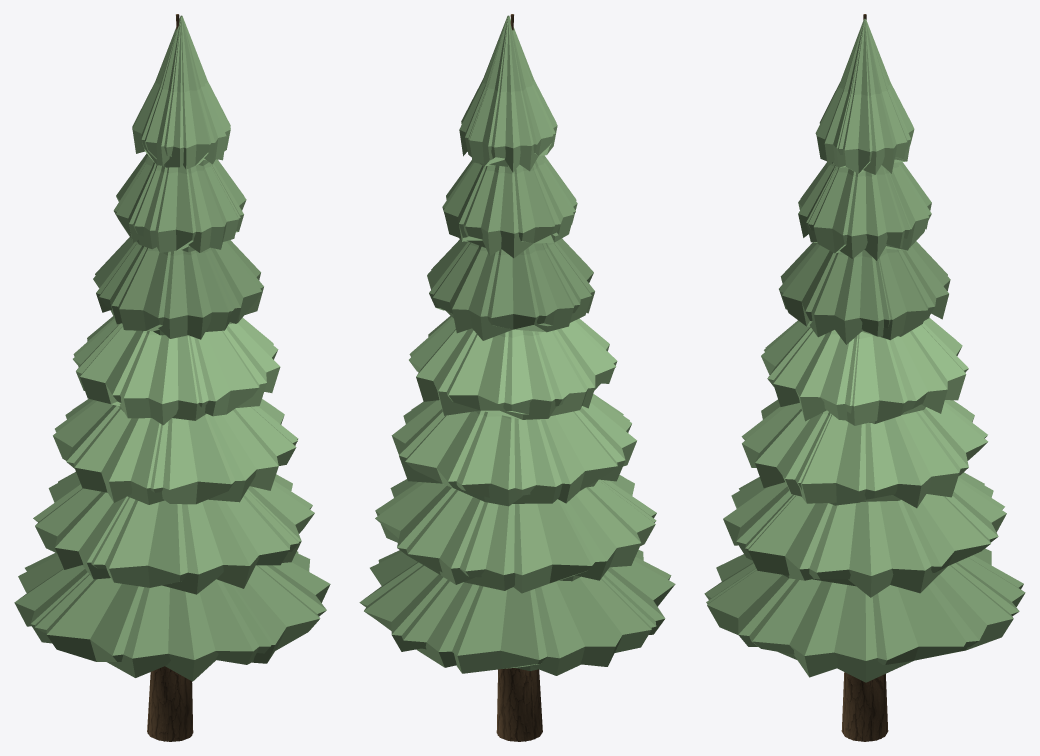
File: env_tree_pine_c_v001.glb
3 renders of one model, left to right at view 1: azimuth 30°, elevation 25°; view 2: azimuth 150°, elevation 25°; view 3: azimuth 270°, elevation 25°, orthographic.
Parts seen in each view (by area): view 1: env_tree_pine_c_LOD0_mesh, env_tree_pine_c_LOD1_mesh, env_tree_pine_c_LOD2_mesh; view 2: env_tree_pine_c_LOD0_mesh, env_tree_pine_c_LOD1_mesh, env_tree_pine_c_LOD2_mesh; view 3: env_tree_pine_c_LOD0_mesh, env_tree_pine_c_LOD1_mesh, env_tree_pine_c_LOD2_mesh.
Boxes of the visible parts, bbox=[...] form: env_tree_pine_c_LOD0_mesh: bbox=[14, 15, 330, 741]; env_tree_pine_c_LOD1_mesh: bbox=[18, 14, 326, 741]; env_tree_pine_c_LOD2_mesh: bbox=[30, 15, 301, 741]; env_tree_pine_c_LOD0_mesh: bbox=[359, 15, 675, 741]; env_tree_pine_c_LOD1_mesh: bbox=[364, 14, 671, 741]; env_tree_pine_c_LOD2_mesh: bbox=[401, 15, 655, 739]; env_tree_pine_c_LOD0_mesh: bbox=[706, 15, 1023, 741]; env_tree_pine_c_LOD1_mesh: bbox=[704, 14, 1025, 738]; env_tree_pine_c_LOD2_mesh: bbox=[707, 15, 1019, 741].
Bounding box in the file's own units: 4.04 × 10 × 4.04.
5 materials, 1 textured.
